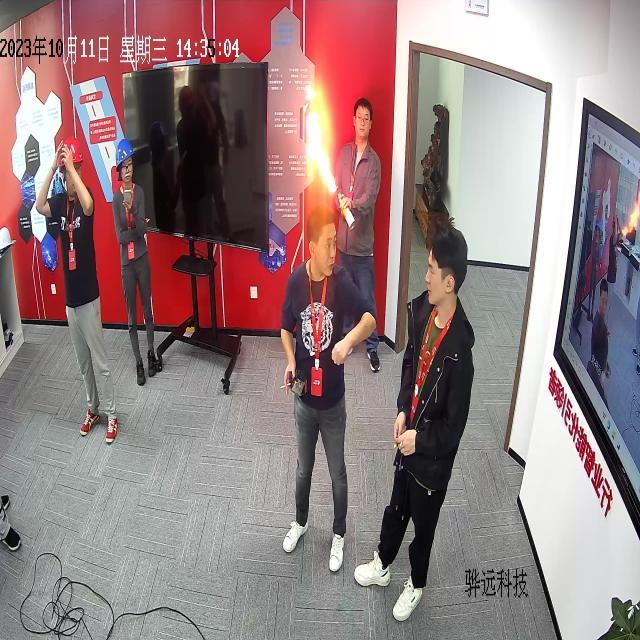Fire: (307, 116, 337, 192)
